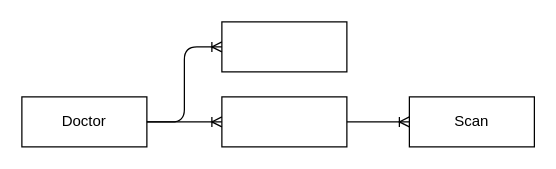
This 556x169 diagram has some shape labels left out. Each missing label, with the box of its shape:
Notification: (221, 21, 347, 72)
Patient: (221, 96, 347, 147)
